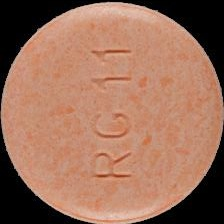63304-540: (0, 0, 224, 224)
